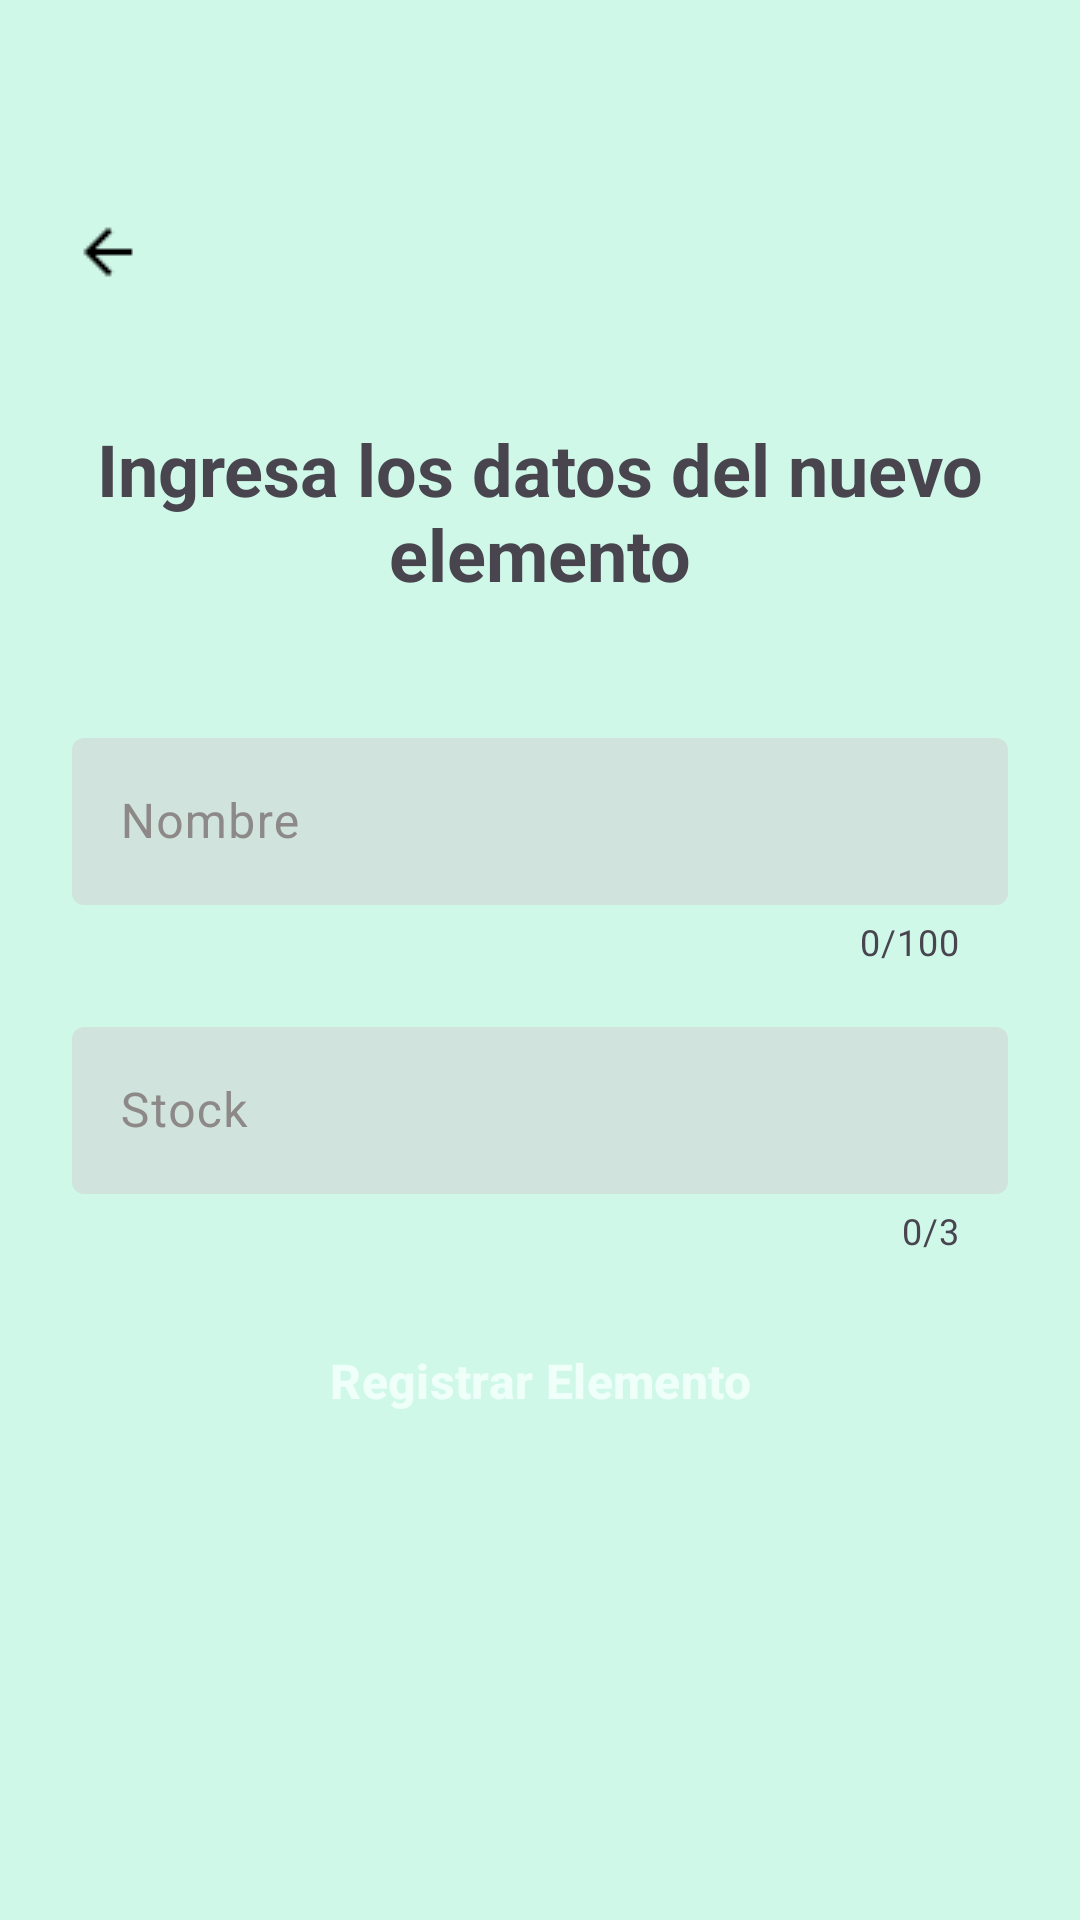

Icon bounding boxes for this 1080w x 1920h phone screenshot, format (x1, y1, x2, y2):
volver: (83, 227, 133, 277)
